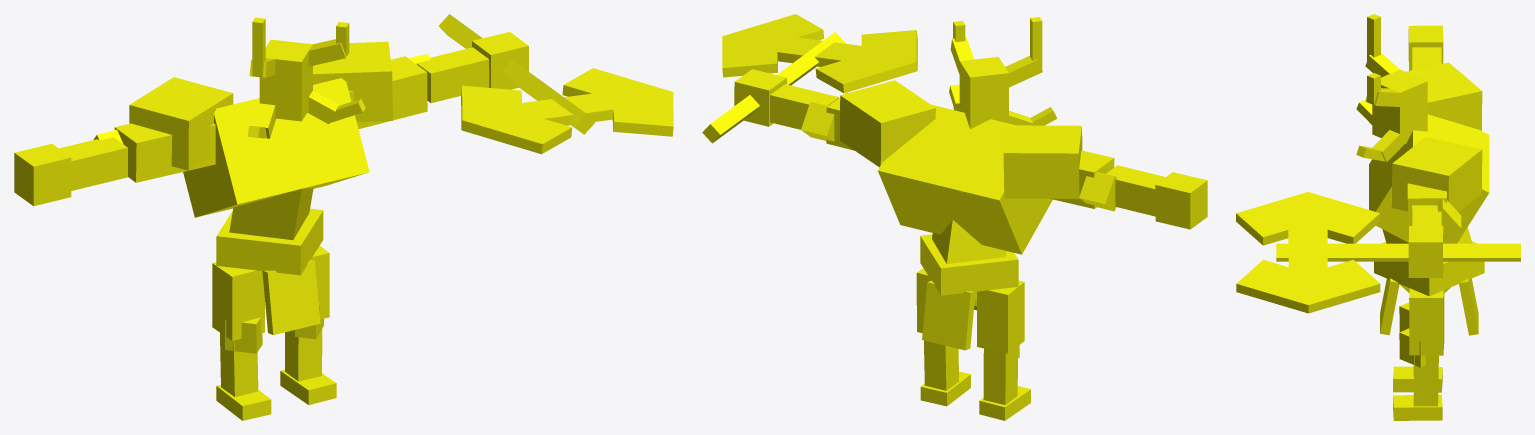
3 renders of one model, left to right at view 1: azimuth 30°, elevation 25°; view 2: azimuth 150°, elevation 25°; view 3: azimuth 270°, elevation 25°, orthographic. The views are drawn at different scales.
Visible parts, largest first — view 1: chest, Axe, hip, head, R_shou, L_shou, R_thig, R_hand, spine, R_up_arm, L_low_arm, R_low_arm (+8 smaller); view 2: chest, Axe, hip, head, R_shou, L_shou, R_thig, R_hand, R_low_arm, L_low_arm, R_leg, spine (+8 smaller); view 3: Axe, head, L_shou, chest, hip, R_shou, L_thig, L_hand, L_leg, L_foot, R_hand, L_up_arm (+7 smaller).
Part boxes in pixels (left/top/right/bottom): chest: left=183, top=78, right=369, bottom=217; Axe: left=439, top=14, right=673, bottom=154; hip: left=216, top=208, right=323, bottom=334; head: left=248, top=17, right=365, bottom=138; R_shou: left=129, top=77, right=233, bottom=170; L_shou: left=313, top=41, right=392, bottom=122; R_thig: left=212, top=262, right=264, bottom=340; R_hand: left=14, top=143, right=71, bottom=206; spine: left=229, top=188, right=313, bottom=239; R_up_arm: left=114, top=123, right=215, bottom=182; L_low_arm: left=416, top=47, right=489, bottom=103; R_low_arm: left=59, top=137, right=127, bottom=190; chest: left=878, top=104, right=1052, bottom=254; Axe: left=702, top=14, right=917, bottom=143; hip: left=920, top=234, right=1018, bottom=350; head: left=949, top=17, right=1057, bottom=129; R_shou: left=1003, top=125, right=1082, bottom=198; L_shou: left=840, top=80, right=935, bottom=167; R_thig: left=977, top=280, right=1024, bottom=353; R_hand: left=1155, top=172, right=1207, bottom=229; R_low_arm: left=1106, top=165, right=1165, bottom=216; L_low_arm: left=770, top=84, right=838, bottom=129; R_leg: left=983, top=348, right=1017, bottom=404; spine: left=932, top=220, right=1006, bottom=263; Axe: left=1236, top=192, right=1520, bottom=313; head: left=1356, top=14, right=1427, bottom=161; L_shou: left=1391, top=137, right=1482, bottom=212; chest: left=1369, top=114, right=1489, bottom=243; hip: left=1374, top=241, right=1484, bottom=335; R_shou: left=1405, top=62, right=1482, bottom=130; L_thig: left=1409, top=288, right=1444, bottom=355; L_hand: left=1408, top=226, right=1443, bottom=277; L_leg: left=1413, top=355, right=1438, bottom=406; L_foot: left=1393, top=394, right=1442, bottom=420; R_hand: left=1408, top=25, right=1443, bottom=70; L_up_arm: left=1407, top=183, right=1446, bottom=234.
Size of the model in its own units: 7.73 by 5.15 by 3.64.
1 material, 1 textured.
